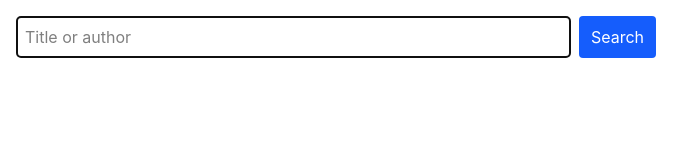
it: shows an error when the API fails
In the field named "Search books": (293, 37) [16,16,571,58], type "dune"
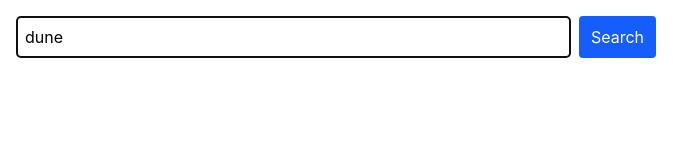
Click the button "Search": click(617, 37) [579,16,656,58]
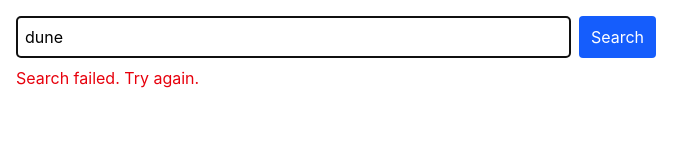
Expected: the message shows "failed", [16,68,199,88]
